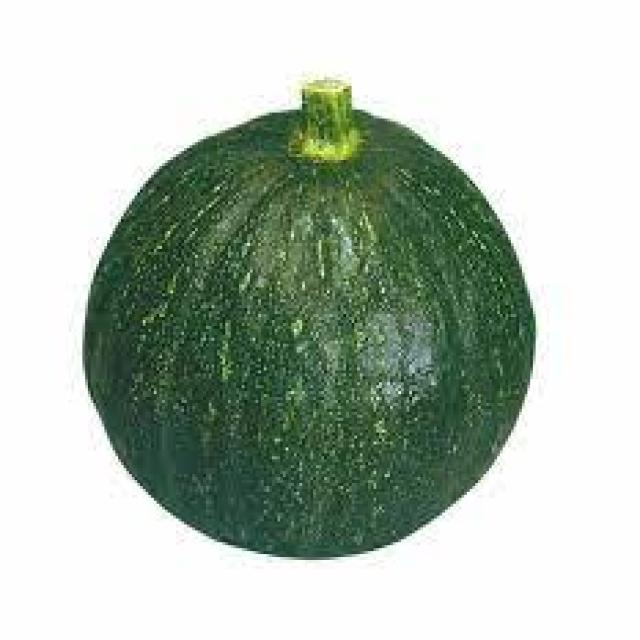Pumpkin: (84, 40, 547, 608)
